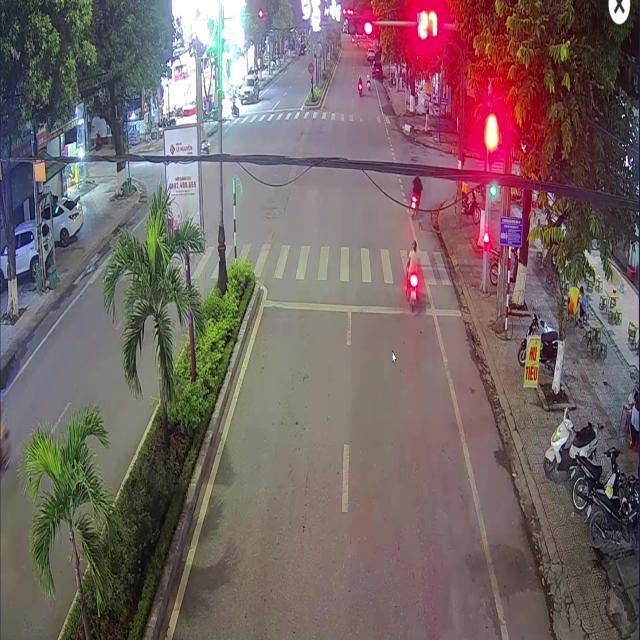motobike: (404, 235, 422, 310)
red_light: (484, 110, 498, 172), (345, 13, 372, 38)
stop_line: (262, 299, 460, 316)
